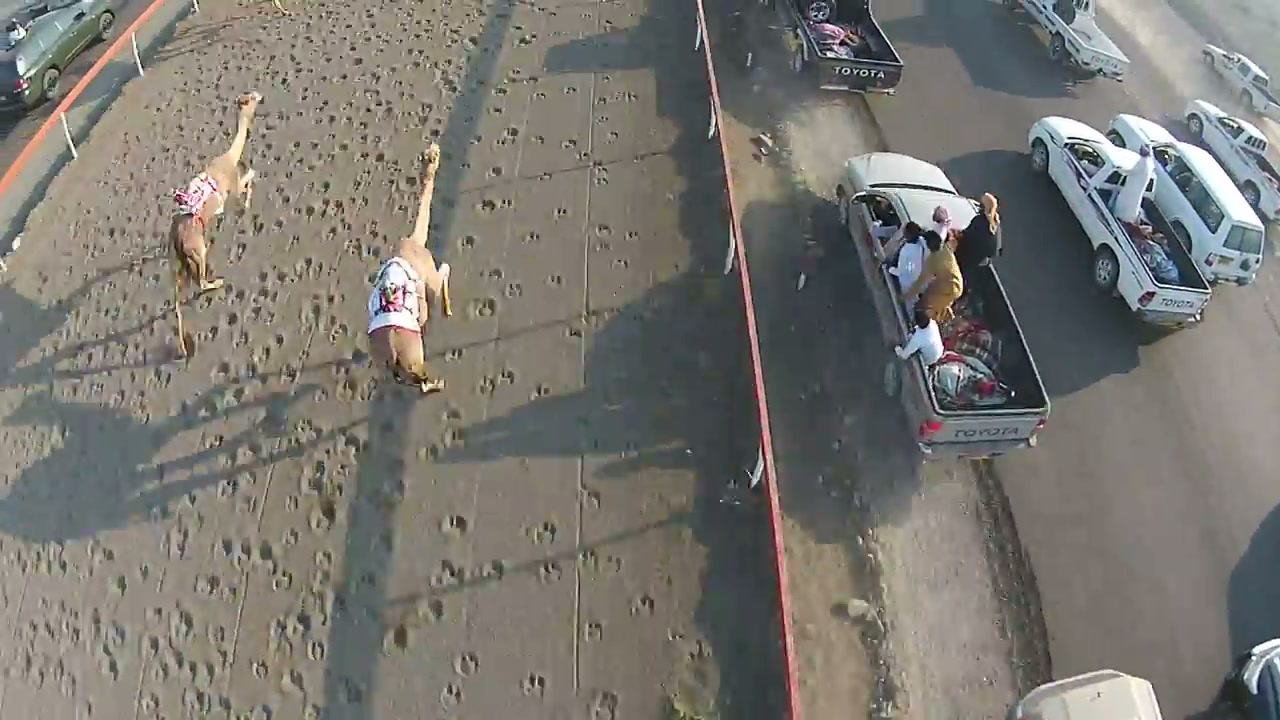animal_foot_print: (137, 2, 437, 719), (342, 7, 571, 719)
